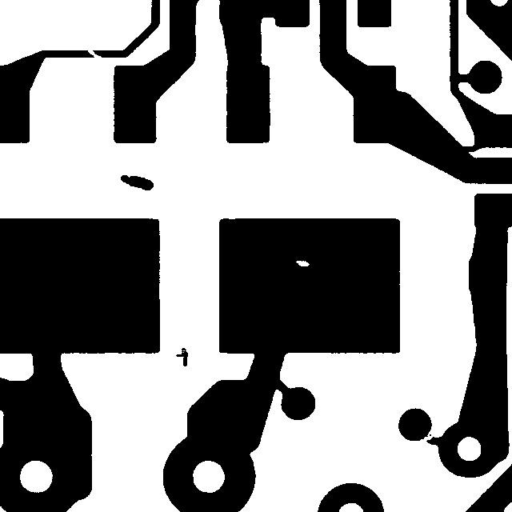copper: (113, 167, 161, 198), (168, 340, 195, 374)
open: (412, 422, 442, 450), (78, 40, 109, 66)
pin-hole: (288, 253, 317, 274)
short: (454, 134, 491, 159)
